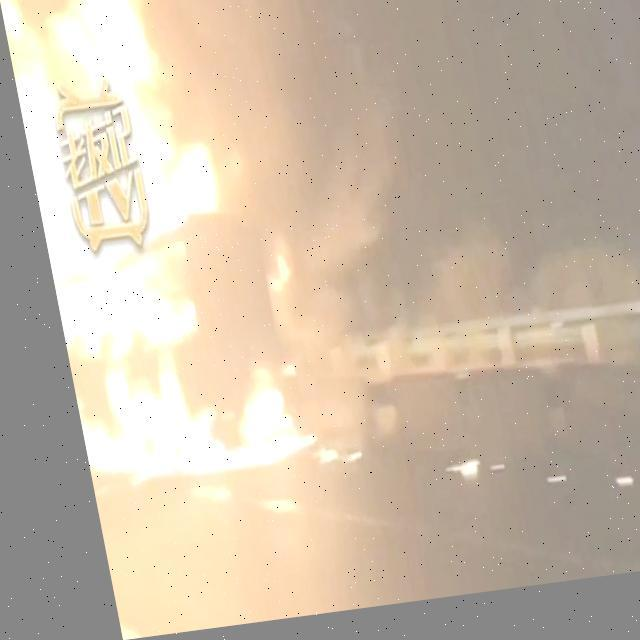Fire: (2, 0, 290, 505)
